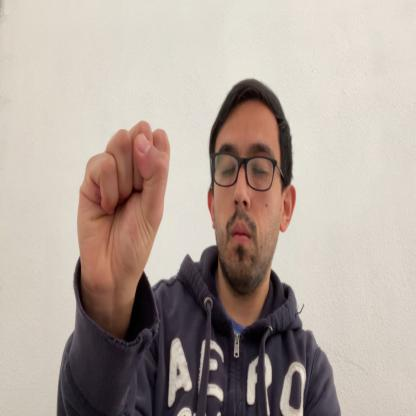S: (76, 122, 170, 290)
